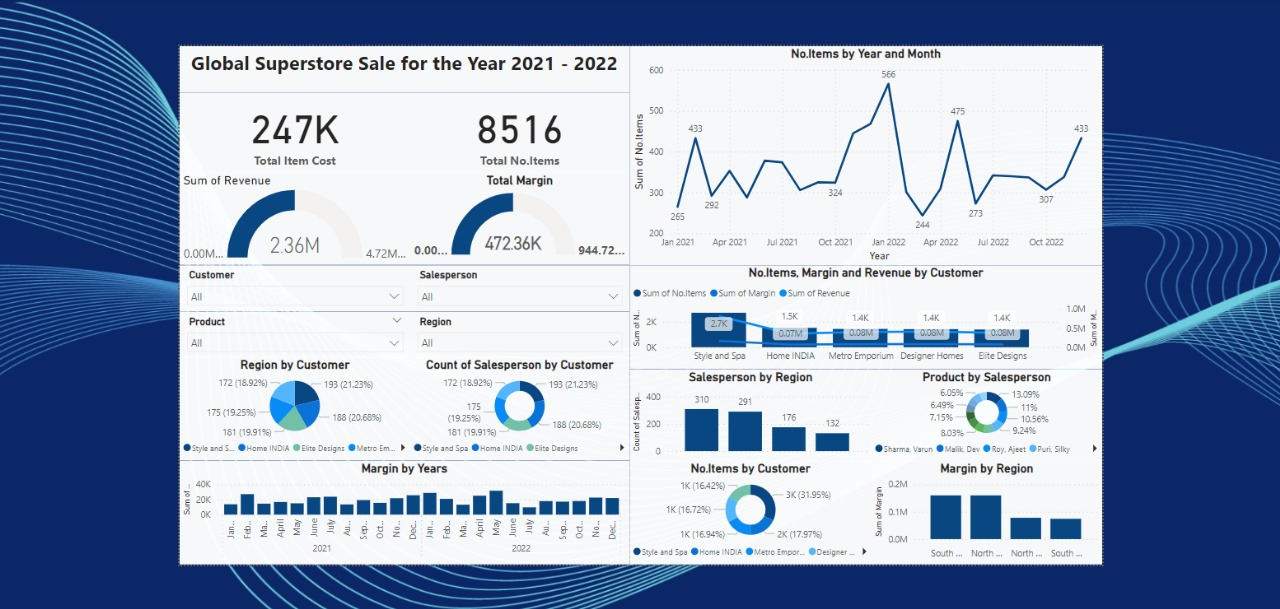

The dashboard page shown, as its layout file describes it:
{"tool":"powerbi","page":{"name":"Page 1","canvas":[1280,720],"ordinal":0},"visuals":[{"type":"textbox","box":[0,0,624,64],"z":0},{"type":"clusteredColumnChart","title":"Margin by Years","fields":{"Y":["Raw_Data.Margin"],"Category":["Raw_Data.Date.Variation.Date Hierarchy.Year","Raw_Data.Date.Variation.Date Hierarchy.Month"]},"box":[0,576,624,144],"z":1000},{"type":"donutChart","title":"No.Items by Customer","fields":{"Y":["Raw_Data.No.Items"],"Category":["Raw_Data.Customer"]},"box":[624,576,336,144],"z":2000},{"type":"clusteredColumnChart","title":"Margin by Region","fields":{"Category":["Raw_Data.Region"],"Y":["Raw_Data.Margin"]},"box":[960,576,320,144],"z":3000},{"type":"pieChart","title":"Region by Customer","fields":{"Y":["Raw_Data.Region"],"Category":["Raw_Data.Customer"]},"box":[0,432,320,144],"z":4000},{"type":"donutChart","fields":{"Y":["Raw_Data.Salesperson"],"Category":["Raw_Data.Customer"]},"box":[320,432,304,144],"z":5000},{"type":"clusteredColumnChart","title":"Salesperson by Region","fields":{"Category":["Raw_Data.Region"],"Y":["Raw_Data.Salesperson"]},"box":[624,448,336,128],"z":6000},{"type":"donutChart","title":"Product by Salesperson","fields":{"Y":["Raw_Data.Product"],"Category":["Raw_Data.Salesperson"]},"box":[960,448,320,128],"z":7000},{"type":"slicer","fields":{"Values":["Raw_Data.Customer"]},"box":[0,304,320,64],"z":8000},{"type":"slicer","fields":{"Values":["Raw_Data.Region"]},"box":[320,368,304,64],"z":9000},{"type":"slicer","fields":{"Values":["Raw_Data.Product"]},"box":[0,368,320,64],"z":10000},{"type":"slicer","fields":{"Values":["Raw_Data.Salesperson"]},"box":[320,304,304,64],"z":11000},{"type":"lineStackedColumnComboChart","title":"No.Items, Margin and  Revenue by Customer","fields":{"Category":["Raw_Data.Customer"],"Y":["Raw_Data.No.Items"],"Y2":["Raw_Data.Margin","Raw_Data.Revenue"]},"box":[624,304,656,144],"z":12000},{"type":"lineChart","title":"No.Items by Year and Month","fields":{"Y":["Raw_Data.No.Items"],"Category":["Raw_Data.Date.Variation.Date Hierarchy.Year","Raw_Data.Date.Variation.Date Hierarchy.Month"]},"box":[624,0,656,304],"z":13000},{"type":"gauge","fields":{"Y":["Raw_Data.Revenue"]},"box":[0,176,320,128],"z":14000},{"type":"gauge","title":"Total Margin","fields":{"Y":["Raw_Data.Margin"]},"box":[320,176,304,128],"z":15000},{"type":"card","fields":{"Values":["Raw_Data.Item Cost"]},"box":[0,64,320,112],"z":16000},{"type":"card","fields":{"Values":["Raw_Data.No.Items"]},"box":[320,64,304,112],"z":17000}]}

Visuals, with their boxes on the page's 1280x720 design canvas (x1, y1, x2, y2). These are canvas units, not pixel positions in the 1280x609 screenshot, which may show the page scaled, cropped or inside an application window:
textbox: <bbox>0, 0, 624, 64</bbox>
"Margin by Years" clusteredColumnChart: <bbox>0, 576, 624, 720</bbox>
"No.Items by Customer" donutChart: <bbox>624, 576, 960, 720</bbox>
"Margin by Region" clusteredColumnChart: <bbox>960, 576, 1280, 720</bbox>
"Region by Customer" pieChart: <bbox>0, 432, 320, 576</bbox>
donutChart - Raw_Data.Salesperson x Raw_Data.Customer: <bbox>320, 432, 624, 576</bbox>
"Salesperson by Region" clusteredColumnChart: <bbox>624, 448, 960, 576</bbox>
"Product by Salesperson" donutChart: <bbox>960, 448, 1280, 576</bbox>
slicer - Raw_Data.Customer: <bbox>0, 304, 320, 368</bbox>
slicer - Raw_Data.Region: <bbox>320, 368, 624, 432</bbox>
slicer - Raw_Data.Product: <bbox>0, 368, 320, 432</bbox>
slicer - Raw_Data.Salesperson: <bbox>320, 304, 624, 368</bbox>
"No.Items, Margin and  Revenue by Customer" lineStackedColumnComboChart: <bbox>624, 304, 1280, 448</bbox>
"No.Items by Year and Month" lineChart: <bbox>624, 0, 1280, 304</bbox>
gauge - Raw_Data.Revenue: <bbox>0, 176, 320, 304</bbox>
"Total Margin" gauge: <bbox>320, 176, 624, 304</bbox>
card - Raw_Data.Item Cost: <bbox>0, 64, 320, 176</bbox>
card - Raw_Data.No.Items: <bbox>320, 64, 624, 176</bbox>
